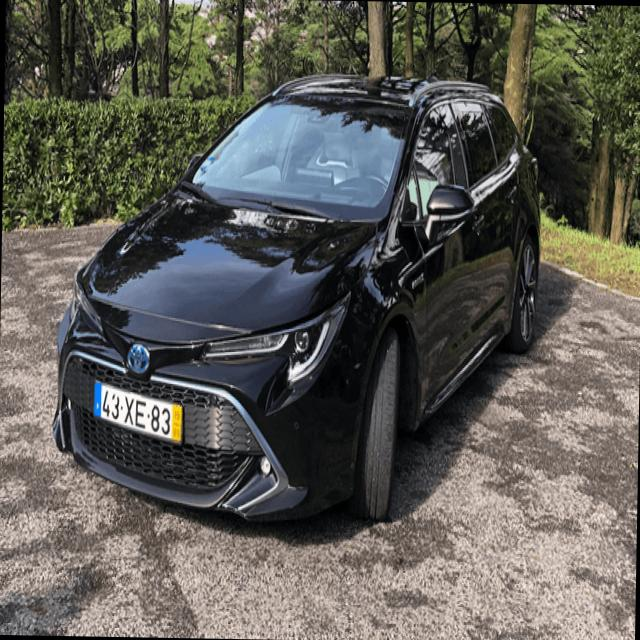portuguese-license-plates: (91, 375, 186, 447)
